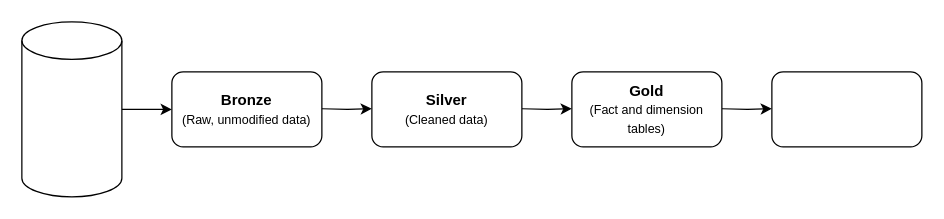
The diagram is 944 pixels wide and 219 high, and some of its shapes have lost their labels. Here are the shapes that lost their labels. From the top down, the centre of each, then its label:
At (x=71, y=109): "Data Source Cloudflare R2 (Instacart CSV Files)".
At (x=846, y=109): "Visualization (Business insight queries)".
